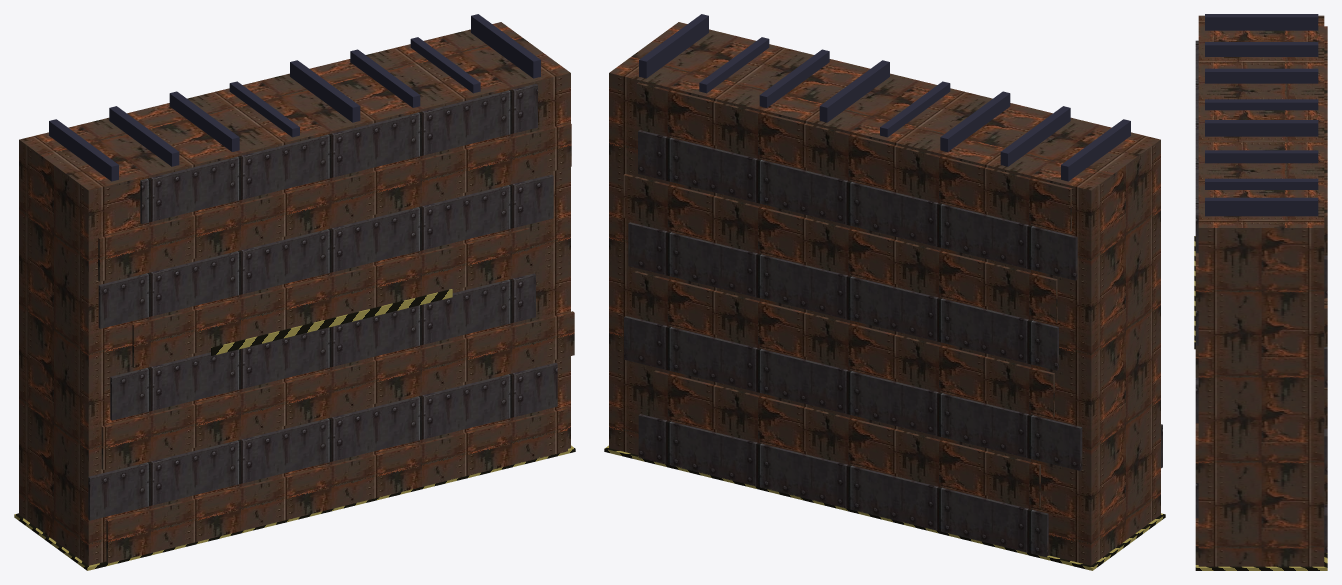
Rendered from prop_scrap_gate_12m.glb.
3 views of the same model, side by side, from view 1: azimuth 30°, elevation 25°; view 2: azimuth 150°, elevation 25°; view 3: azimuth 270°, elevation 25° (orthographic). The views are drawn at different scales.
Parts seen in each view (by area): view 1: prop_scrap_gate_12m; view 2: prop_scrap_gate_12m; view 3: prop_scrap_gate_12m.
Part boxes in pixels (<box>): prop_scrap_gate_12m: <box>14,14,575,570</box>; prop_scrap_gate_12m: <box>604,14,1165,570</box>; prop_scrap_gate_12m: <box>1194,14,1327,570</box>.
Size of the model in its own units: 16.2 by 12.54 by 4.24.
Materials: 4 (3 with a texture image).
